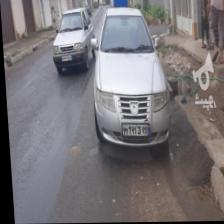plate: (119, 119, 150, 137), (61, 54, 72, 62)
